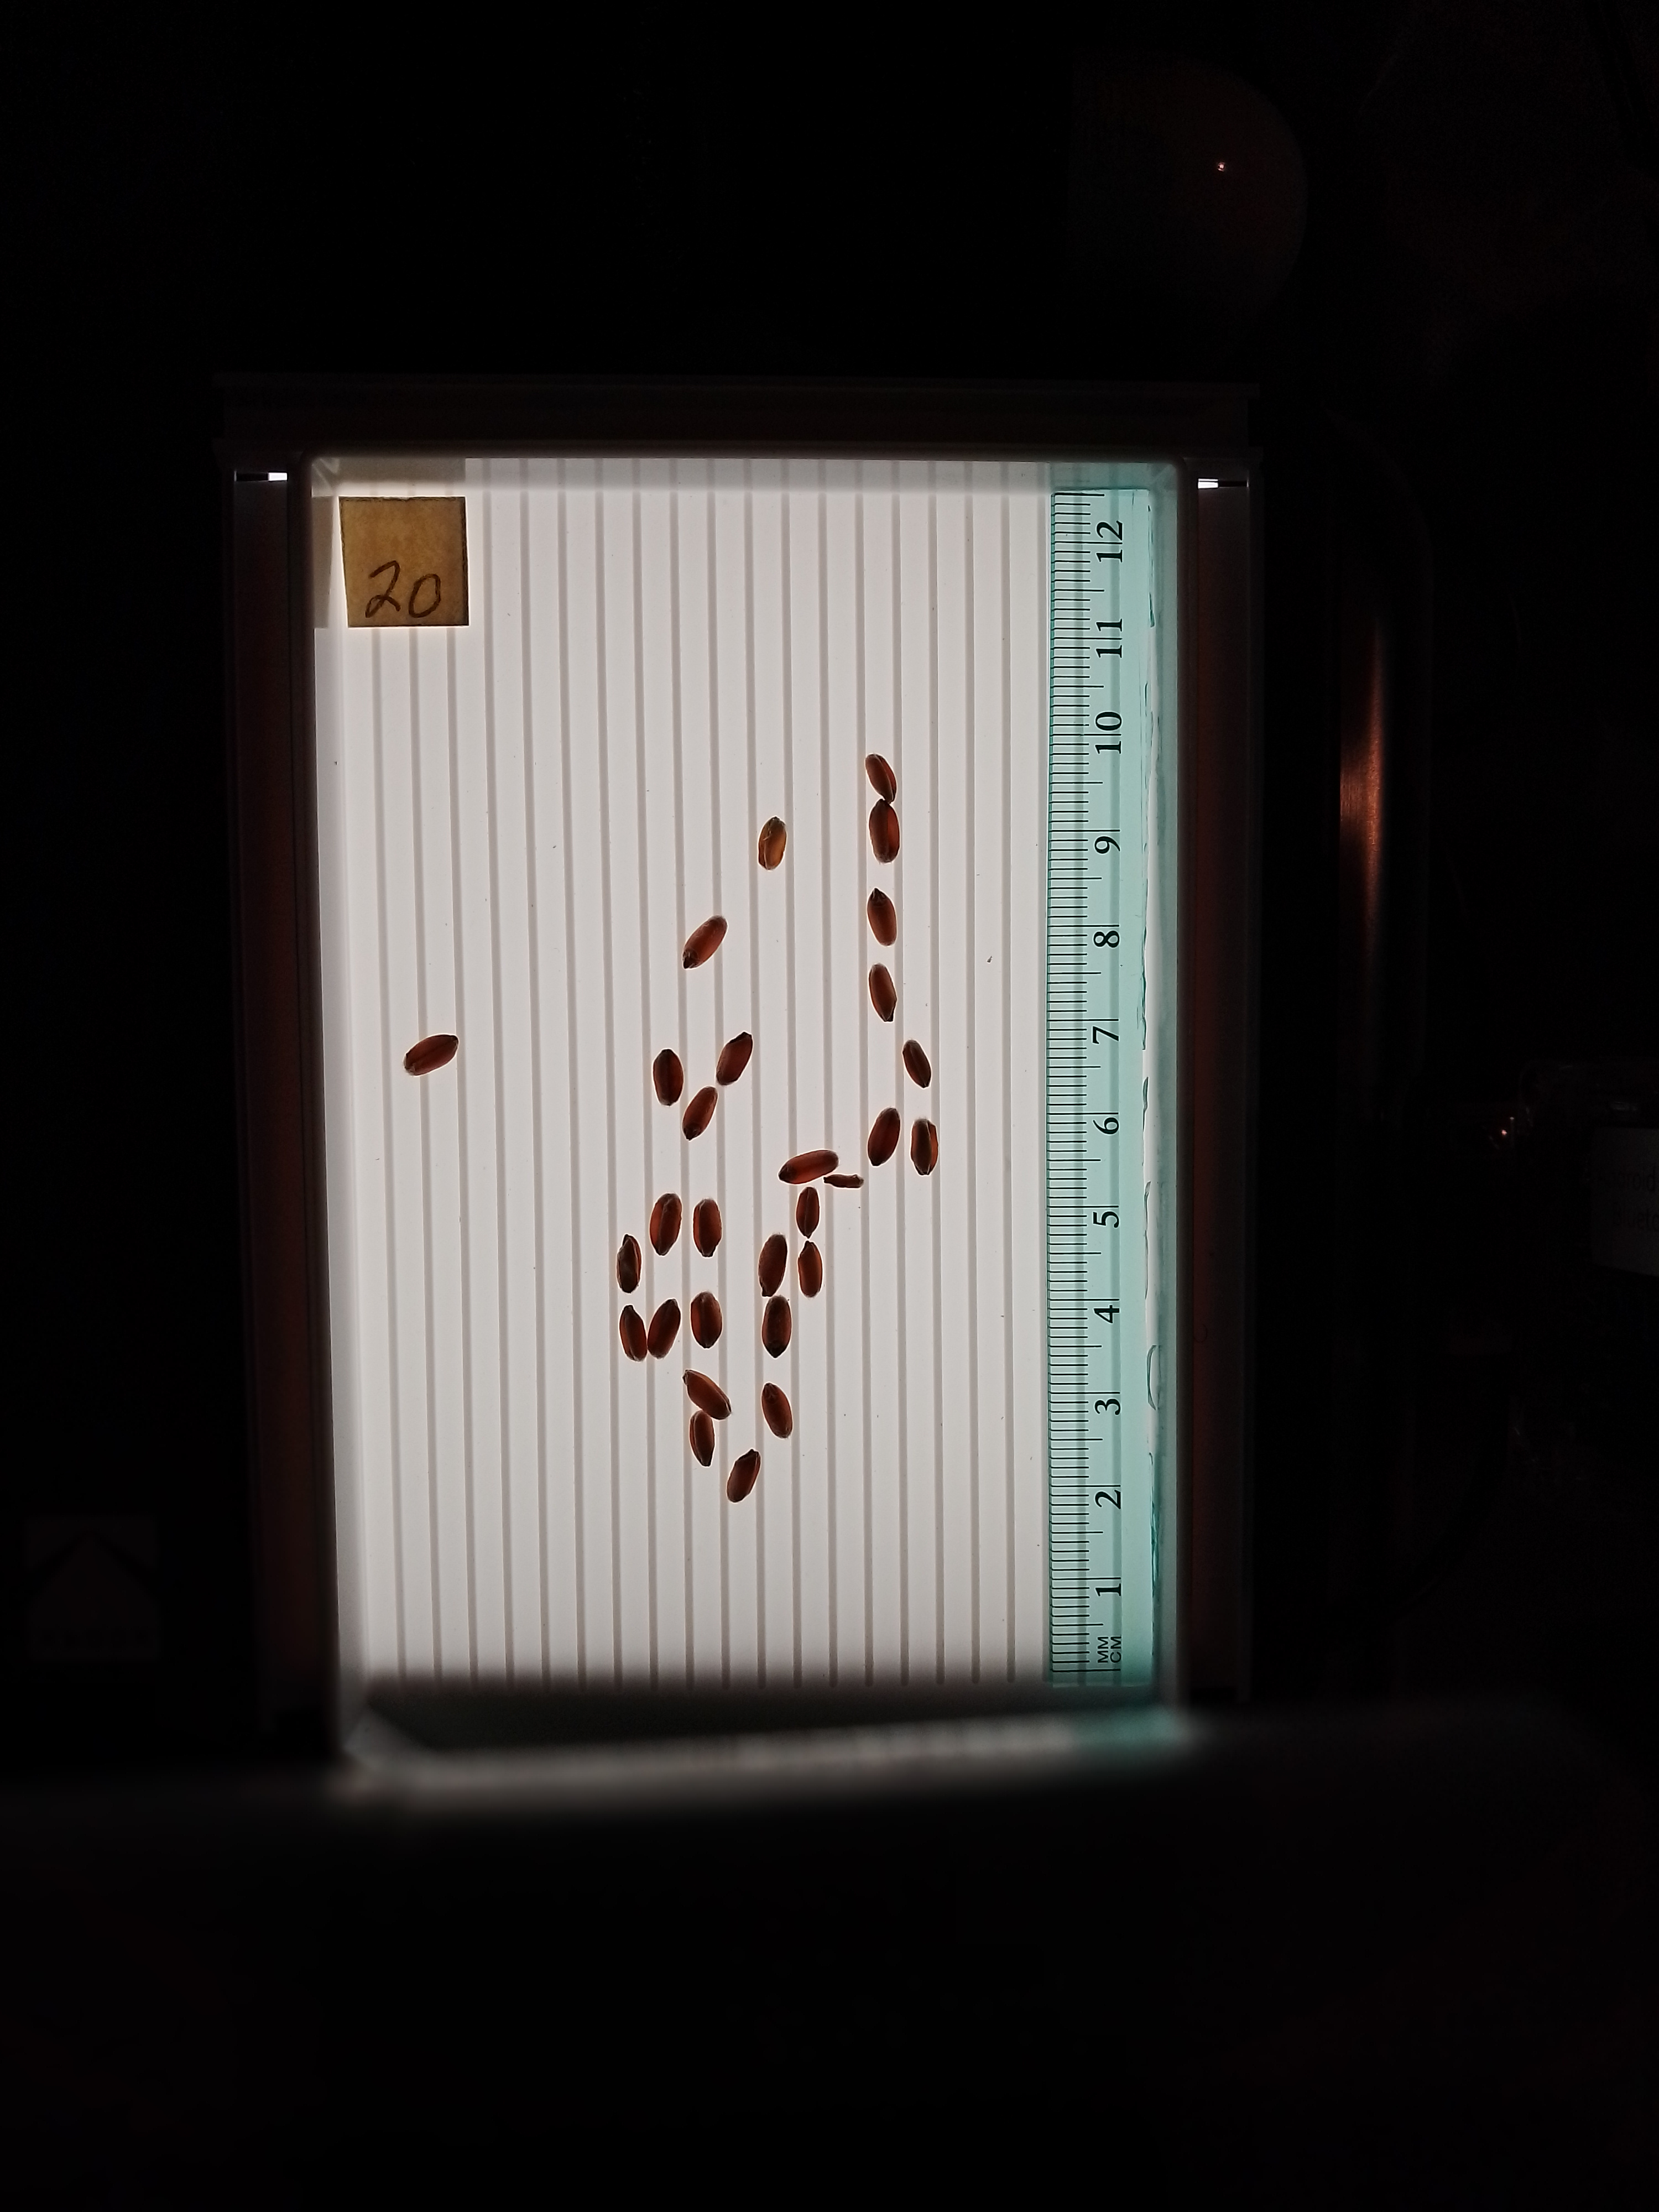seed mask: (683, 1370, 733, 1420), (682, 915, 728, 969), (401, 1034, 460, 1076), (868, 800, 900, 864), (647, 1299, 681, 1359), (649, 1193, 682, 1256), (868, 1105, 901, 1167), (681, 1087, 718, 1141), (779, 1151, 840, 1183), (716, 1032, 753, 1084), (758, 1234, 788, 1297), (866, 886, 898, 945), (726, 1449, 761, 1503), (762, 1295, 791, 1358), (652, 1050, 684, 1107), (690, 1291, 723, 1348), (863, 752, 899, 802), (619, 1304, 649, 1364), (762, 1383, 793, 1438), (869, 963, 898, 1023), (692, 1199, 720, 1259), (758, 817, 789, 869), (910, 1120, 940, 1175), (689, 1408, 714, 1468), (617, 1234, 642, 1293), (902, 1040, 932, 1089), (798, 1241, 822, 1297), (795, 1187, 821, 1236), (822, 1175, 865, 1189)
